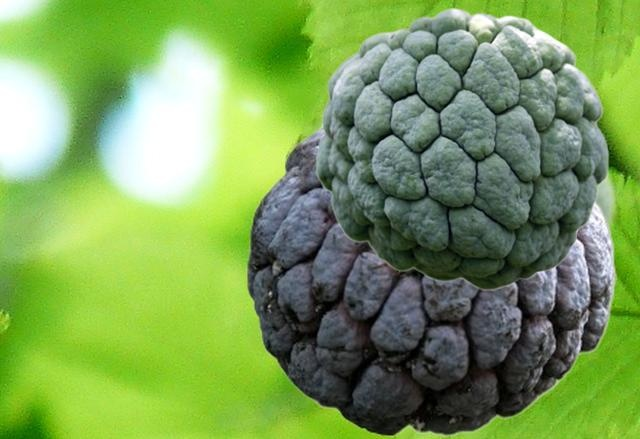atis: (246, 121, 615, 435), (315, 7, 608, 290), (307, 108, 617, 237)
